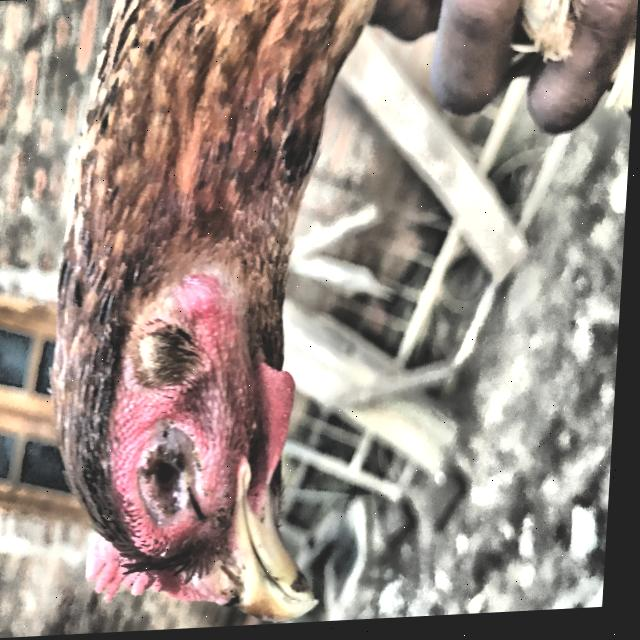Coryza: (8, 0, 468, 638)
